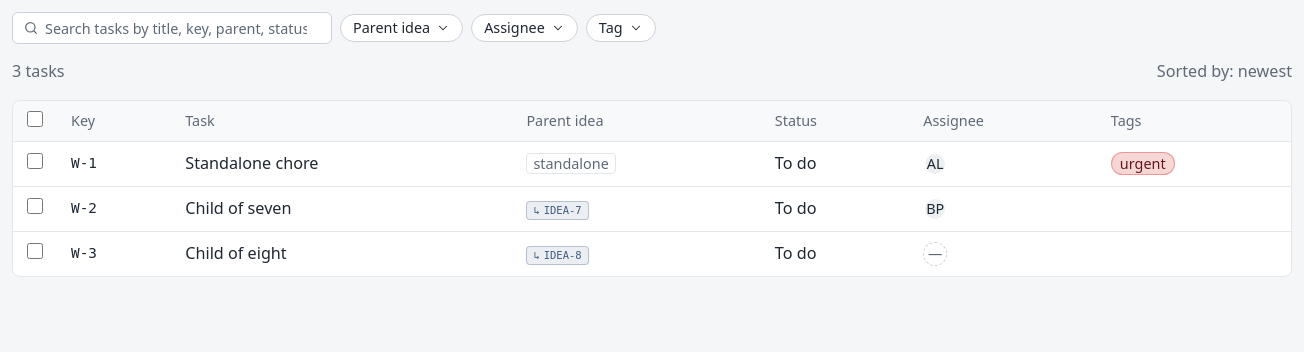
Test case: BacklogList selection › counts the selection, selects all shown only, and clears
The width and height of the screenshot is (1304, 352).
Click the checkbox named "Select W-1". click: {"x": 35, "y": 161}
box: [27,153,43,169]
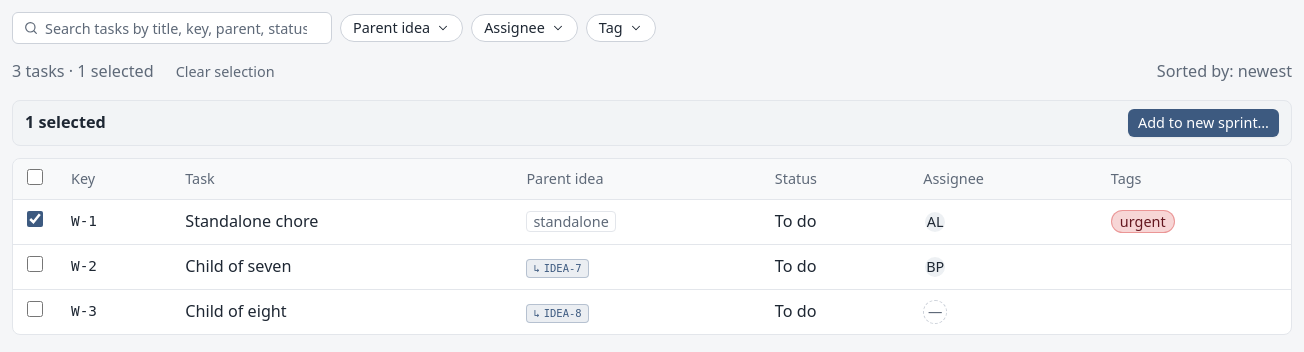
Expected: the message shows "1 selected", [64,60,154,82]
Type "child" into the search field labelled "Search tasks". click: {"x": 183, "y": 28}
box: [45,13,321,43]
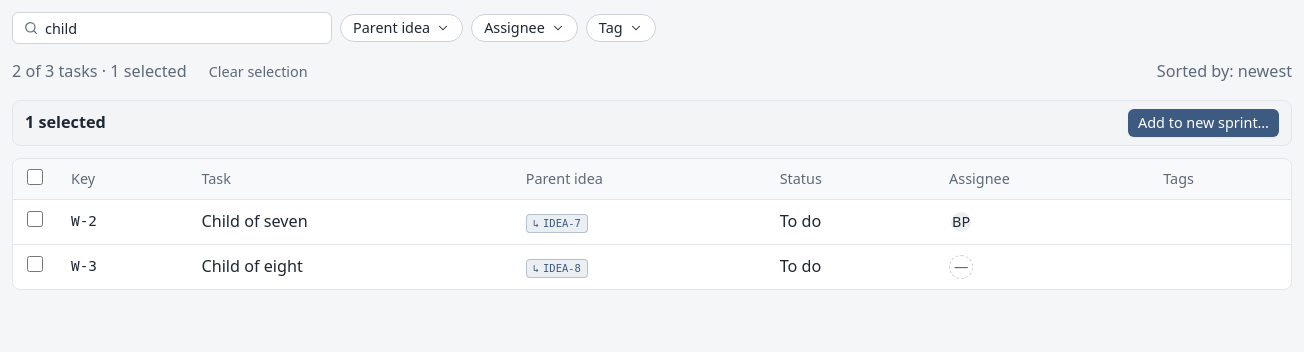
Expected: the number of links is 2, [201,210,308,232]; [201,255,303,277]
Click the checkbox named "Select all shown tasks". click: {"x": 35, "y": 177}
box: [27,169,43,185]
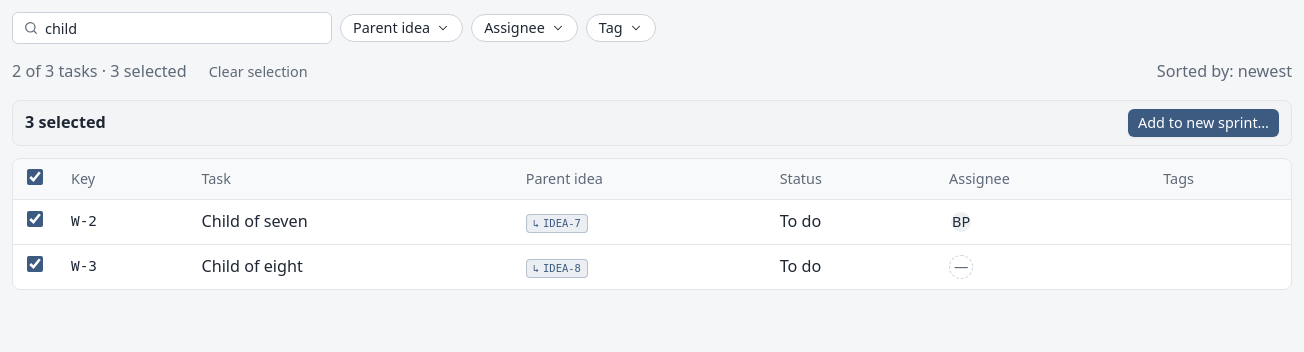
Expected: the message shows "3 selected", [98,60,187,82]
Click the button "Clear selection". click: {"x": 258, "y": 72}
box: [199,58,318,86]
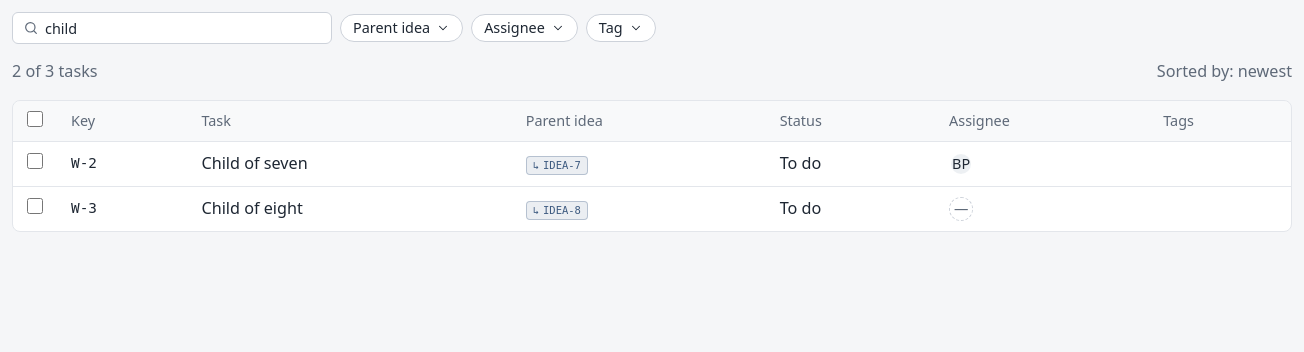
Expected: the message "2 of 3 tasks · 3 selected" no longer shows "selected"
